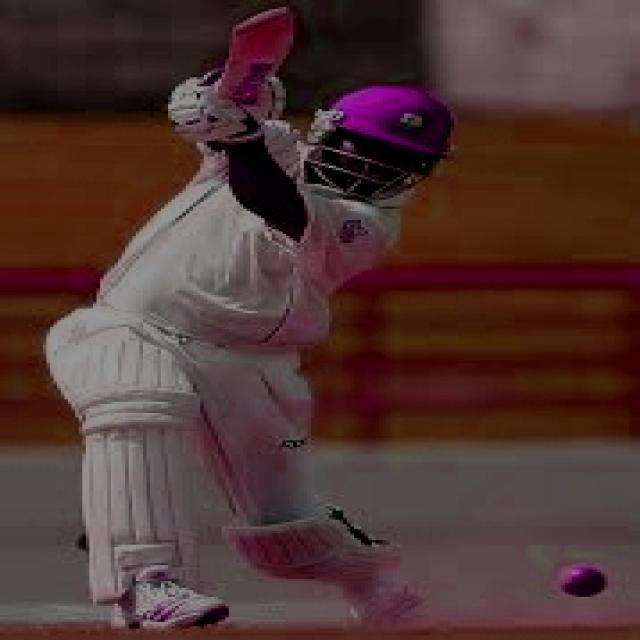bat: (200, 3, 317, 113)
toe: (232, 8, 280, 32)
